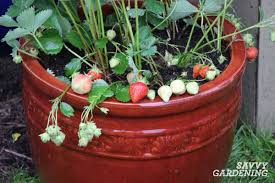Fresa: (128, 77, 149, 103), (244, 44, 259, 64)
